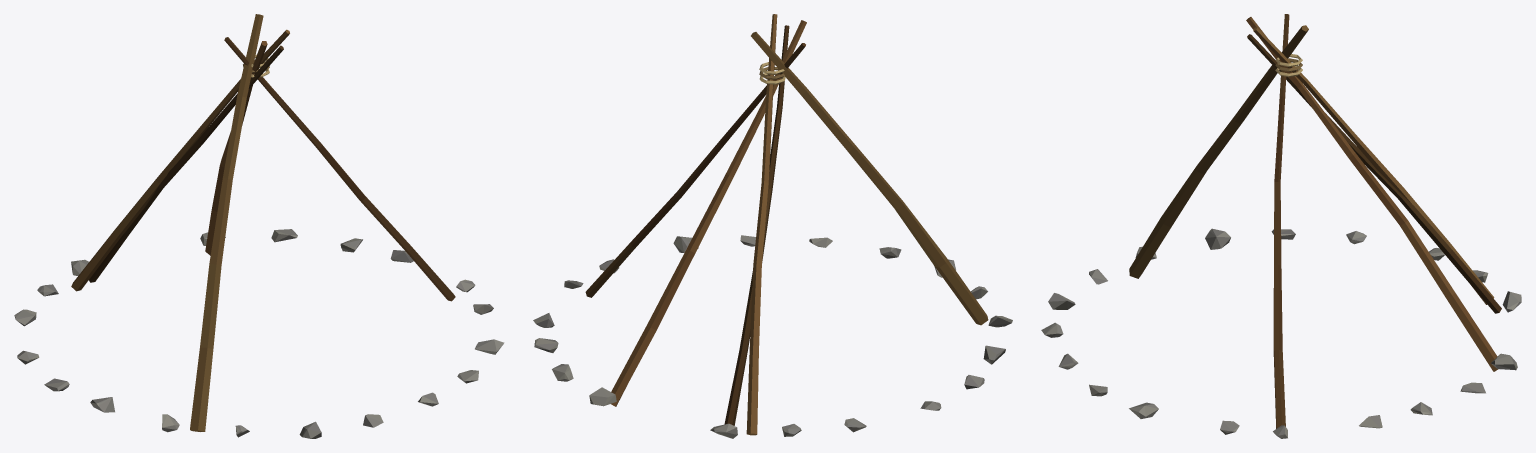
The model's file is stick_tent_1_struttura.glb.
3 views of the same model, side by side, from view 1: azimuth 30°, elevation 25°; view 2: azimuth 150°, elevation 25°; view 3: azimuth 270°, elevation 25° (orthographic).
Visible parts, largest first — view 1: stick_tent_1_struttura; view 2: stick_tent_1_struttura; view 3: stick_tent_1_struttura.
Boxes of the visible parts, x1,y1,x2,y2 form: stick_tent_1_struttura: [14, 14, 504, 438]; stick_tent_1_struttura: [533, 14, 1012, 438]; stick_tent_1_struttura: [1041, 14, 1521, 438].
Bounding box in the file's own units: 4.89 × 3.56 × 4.8.
